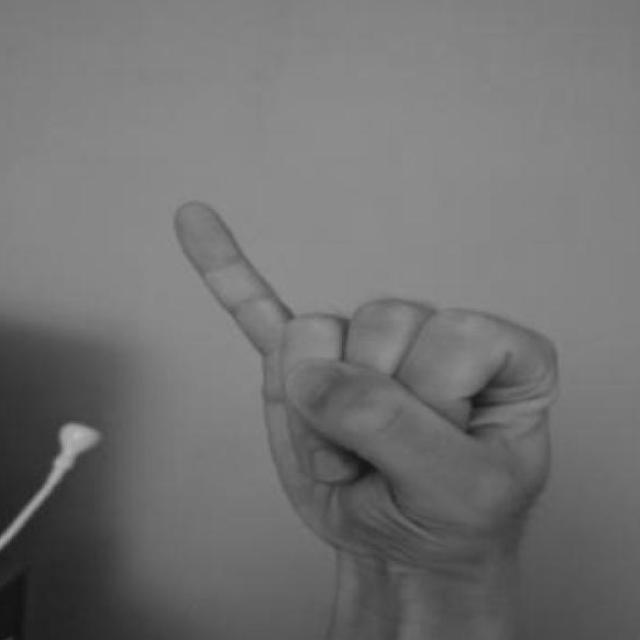I: (155, 177, 576, 598)
